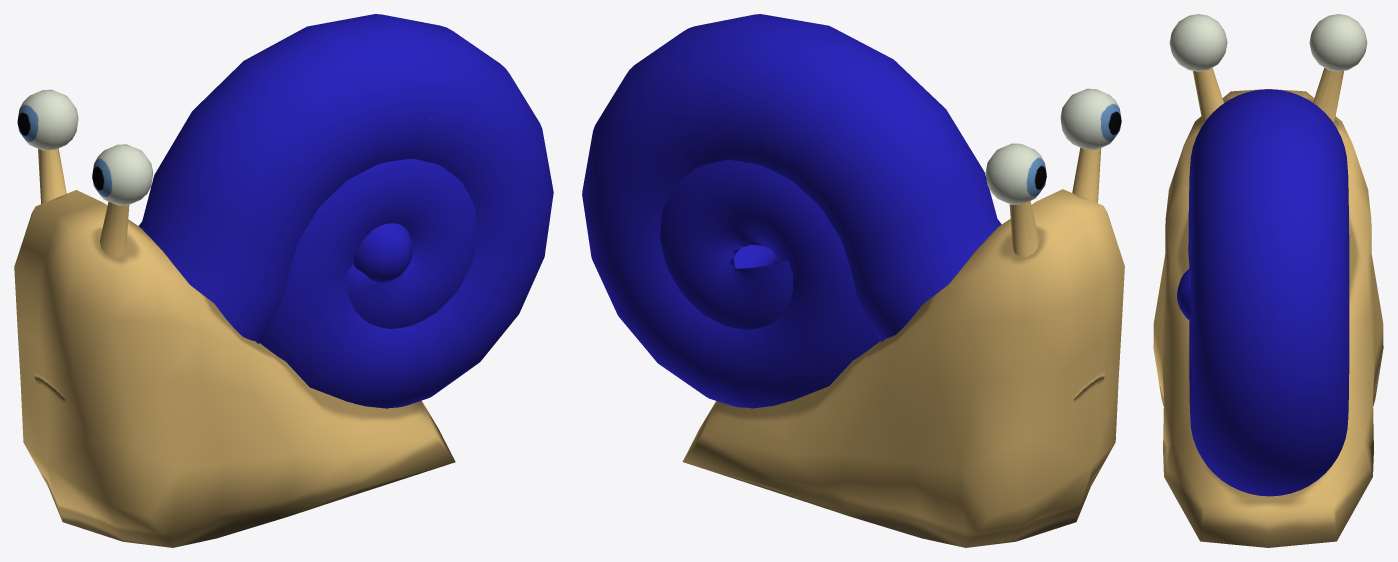
Rendered from snail.gltf.
The picture shows the model from 3 angles, left to right: view 1: azimuth 30°, elevation 25°; view 2: azimuth 150°, elevation 25°; view 3: azimuth 270°, elevation 25°; orthographic projection. The views are drawn at different scales.
Visible parts, largest first — view 1: Shell, Body, Eye, CenterShell, EyeStick; view 2: Shell, Body, Eye, EyeStick; view 3: Shell, Body, Eye, EyeStick, CenterShell.
Boxes of the visible parts, x1,y1,x2,y2 form: Shell: (139, 14, 553, 408); Body: (14, 190, 455, 547); Eye: (17, 89, 152, 205); CenterShell: (354, 223, 412, 282); EyeStick: (38, 148, 129, 257); Shell: (582, 14, 1001, 408); Body: (682, 189, 1124, 547); Eye: (985, 88, 1121, 204); EyeStick: (1009, 147, 1101, 256); Shell: (1188, 89, 1349, 496); Body: (1153, 89, 1383, 547); Eye: (1169, 14, 1367, 71); EyeStick: (1193, 68, 1343, 121); CenterShell: (1177, 268, 1190, 321).
Bounding box in the file's own units: 4.03 × 3.27 × 1.7.
Materials: 1 (1 with a texture image).
